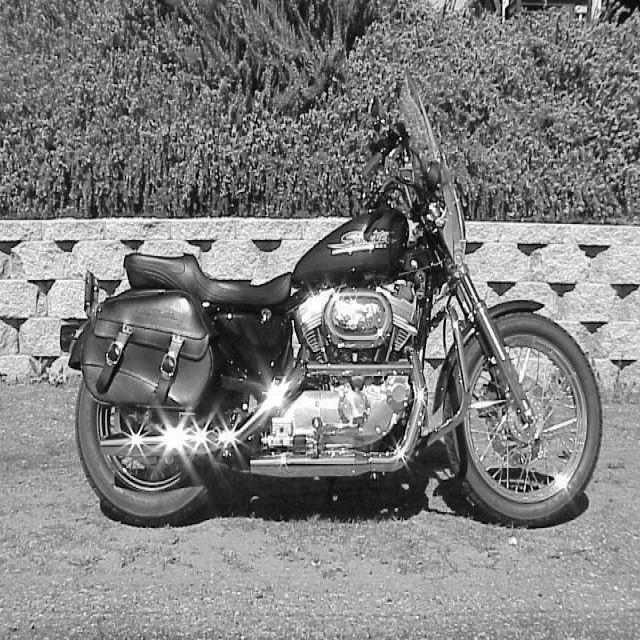Motorcycle: (60, 108, 603, 527)
